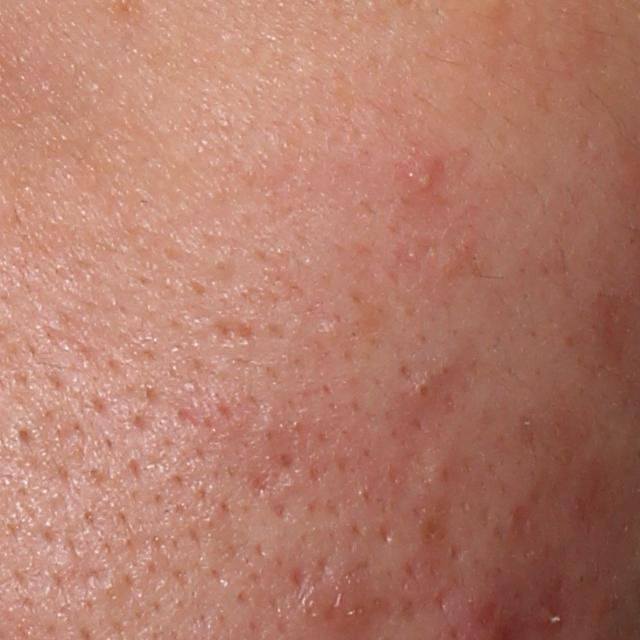atrophic_scar: (207, 311, 258, 340)
comedo: (8, 424, 37, 455), (411, 375, 434, 404)
pustule: (400, 158, 443, 207)
